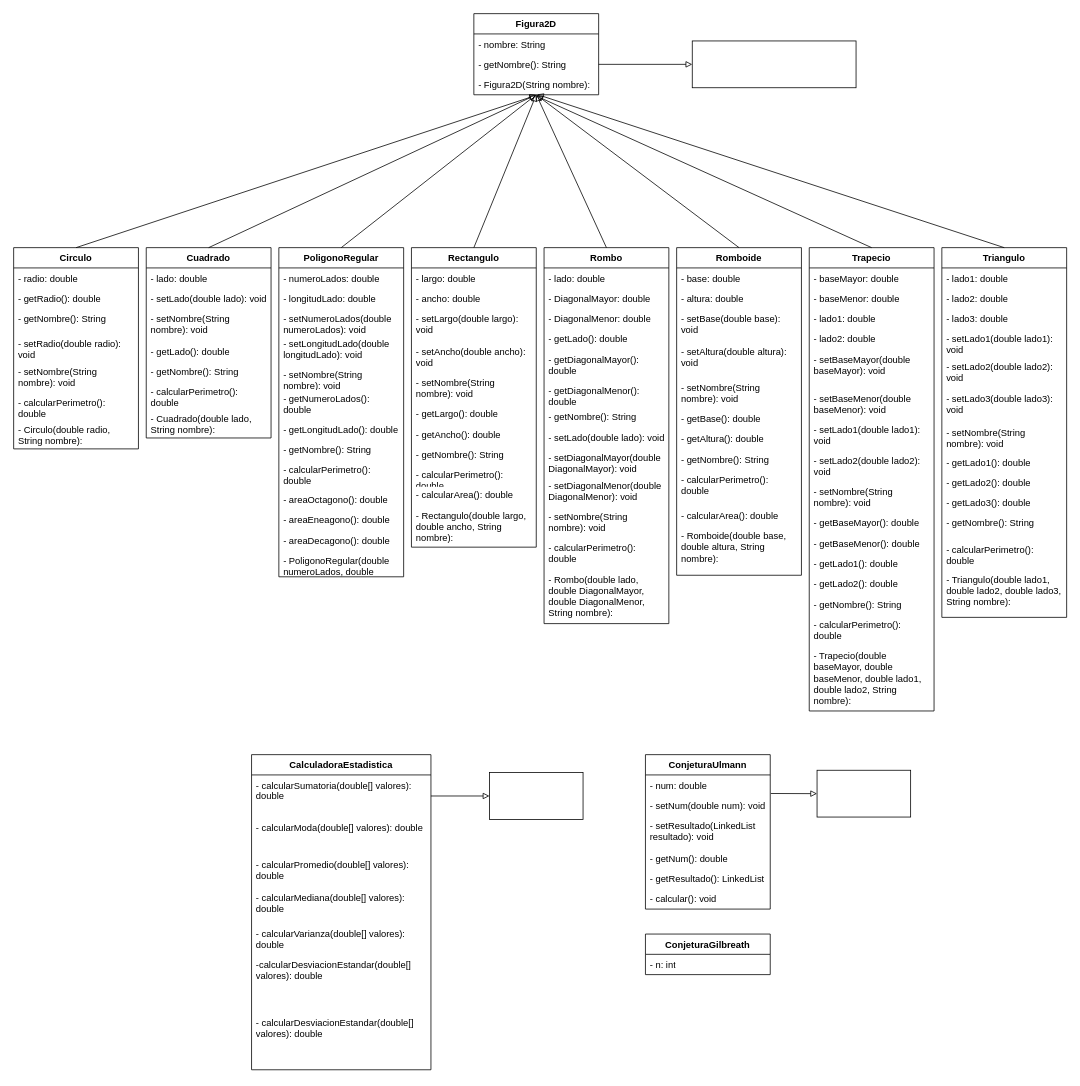
This 1080x1086 diagram has some shape labels left out. Here are the shapes that lost their labels. From the top down, the centre of each, then its label:
At [773,64]: "InterfazCalcularPerimetro".
At [536,795]: "Estadistica".
At [863,793]: "Conjeturas".
